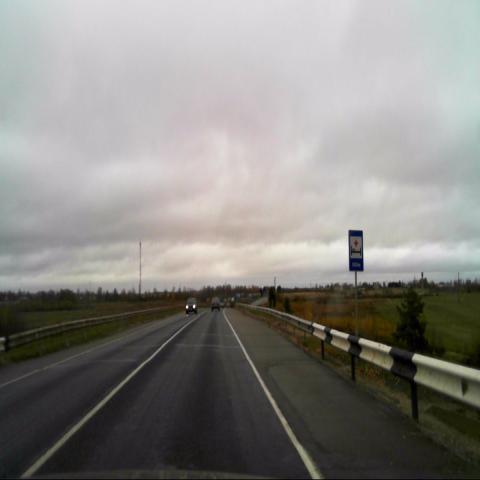7_2: (349, 229, 363, 272)
